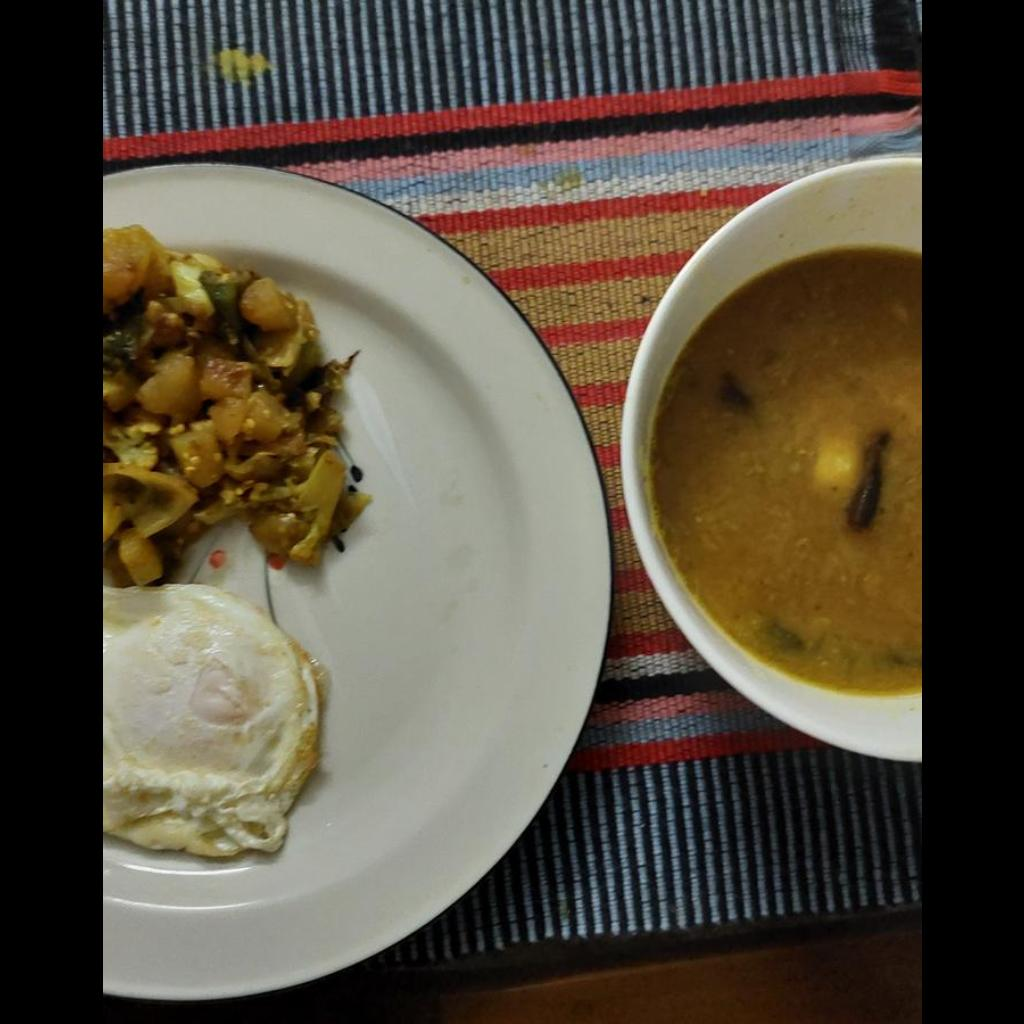daal: (645, 247, 920, 698)
egg-poached: (104, 574, 326, 862)
vegetable: (102, 226, 369, 584)
